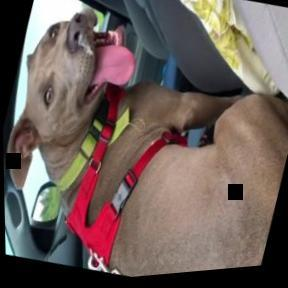nasal_discharge: (60, 25, 100, 63)
